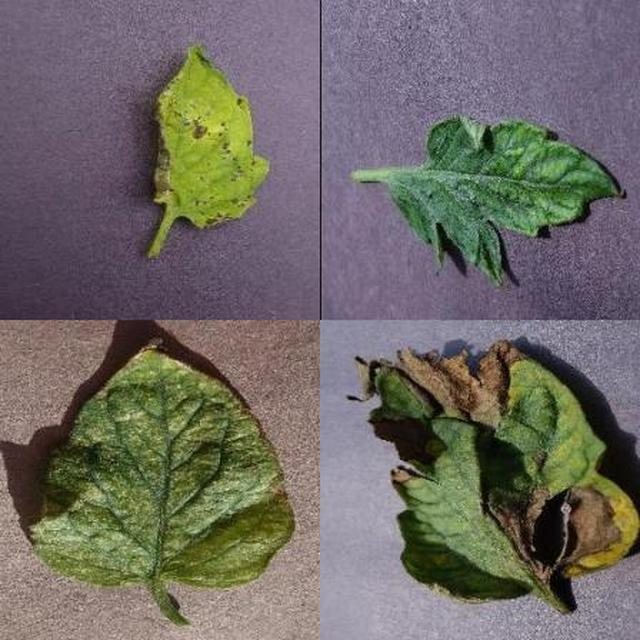Septoria Leaf: (180, 193, 640, 640)
